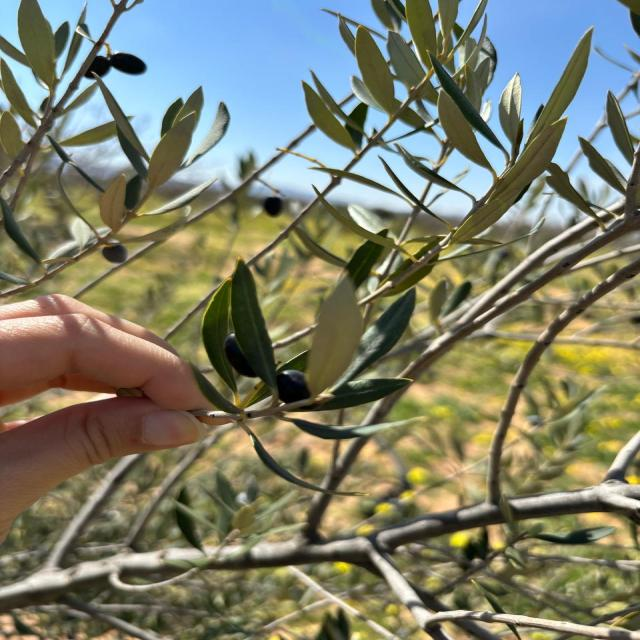Healthy: (202, 260, 309, 404), (333, 288, 415, 390), (527, 27, 593, 142), (18, 0, 69, 98), (147, 103, 201, 192), (439, 89, 491, 170), (355, 26, 401, 115), (296, 378, 412, 411), (303, 81, 356, 152), (85, 52, 147, 78), (101, 174, 126, 232)
